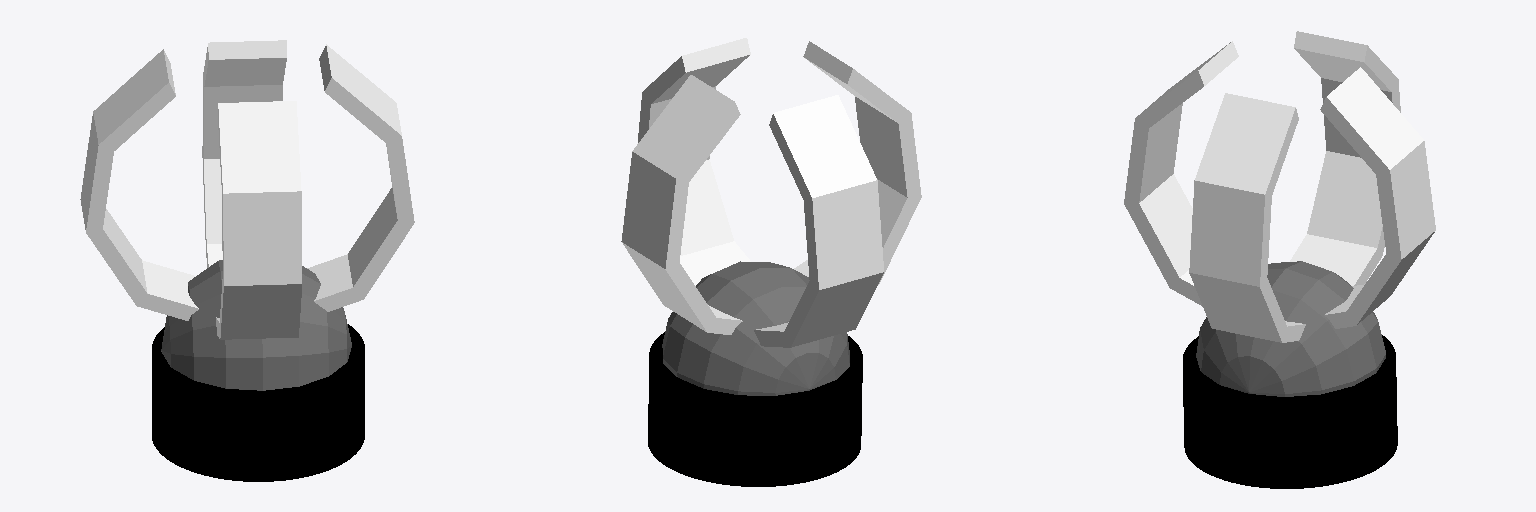
File: claw.obj
The picture shows the model from 3 angles: view 1: azimuth 30°, elevation 25°; view 2: azimuth 150°, elevation 25°; view 3: azimuth 270°, elevation 25°; orthographic projection.
Visible parts, largest first — view 1: Cylinder.4, Cube.2, Sphere, Cube.1, Cube, Cube.3; view 2: Cylinder.4, Cube.1, Sphere, Cube.3, Cube.2, Cube; view 3: Cylinder.4, Cube, Sphere, Cube.3, Cube.1, Cube.2.
Boxes of the visible parts, box(x1,y1,x2,y2) form: Cylinder.4: box(152, 324, 364, 481); Cube.2: box(216, 101, 301, 339); Sphere: box(161, 260, 351, 390); Cube.1: box(80, 49, 198, 320); Cube: box(307, 44, 414, 311); Cube.3: box(202, 40, 286, 267); Cylinder.4: box(648, 332, 862, 486); Cube.1: box(754, 95, 883, 347); Sphere: box(662, 261, 849, 395); Cube.3: box(621, 75, 742, 334); Cube.2: box(794, 41, 921, 284); Cube: box(638, 38, 750, 285); Cylinder.4: box(1183, 335, 1397, 488); Cube: box(1189, 93, 1305, 342); Sphere: box(1196, 261, 1385, 396); Cube.3: box(1320, 67, 1435, 328); Cube.1: box(1290, 31, 1400, 285); Cube.2: box(1124, 41, 1238, 306).
Size of the model in its own units: 30.33 by 37.81 by 28.64.